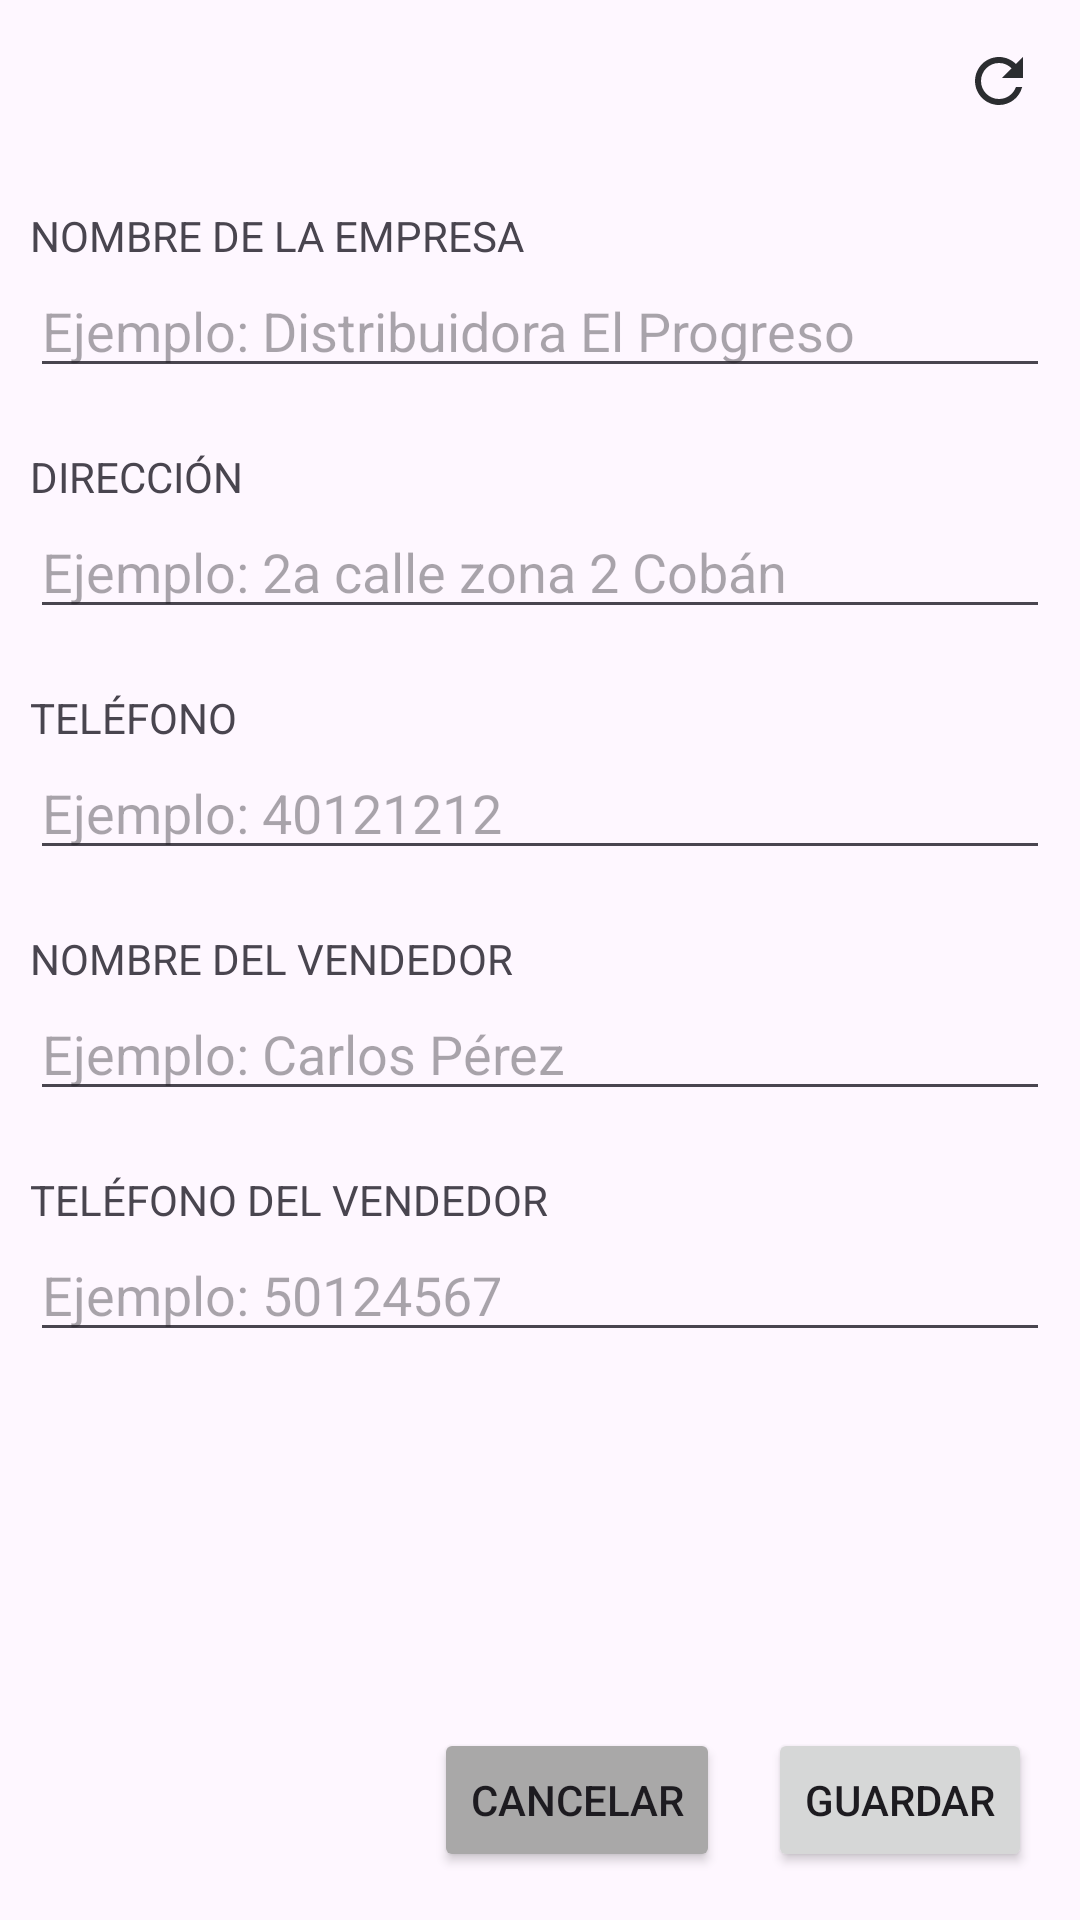

Locate icon controls on the screen. Image size 1080px×1920px, boxes as (x1, y1, x2, y2).
refresh: (975, 57, 1023, 105)
